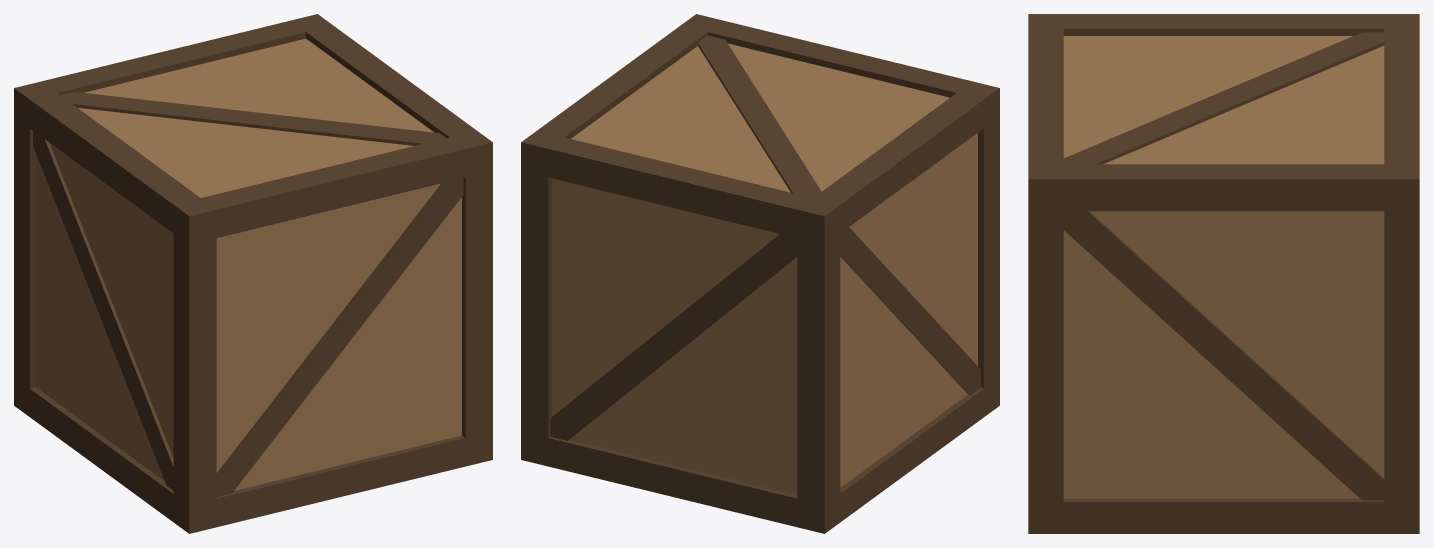
The model's file is crate.glb.
3 renders of one model, left to right at view 1: azimuth 30°, elevation 25°; view 2: azimuth 150°, elevation 25°; view 3: azimuth 270°, elevation 25°, orthographic. The views are drawn at different scales.
Visible parts, largest first — view 1: Boards, Frame; view 2: Boards, Frame; view 3: Boards, Frame.
Part boxes in pixels (x1,y1,x2,y2): Boards: (36, 38, 461, 490); Frame: (14, 14, 492, 533); Boards: (552, 43, 977, 494); Frame: (521, 14, 999, 533); Boards: (1063, 36, 1384, 498); Frame: (1028, 14, 1419, 533).
Bounding box in the file's own units: 1 × 1 × 1.
